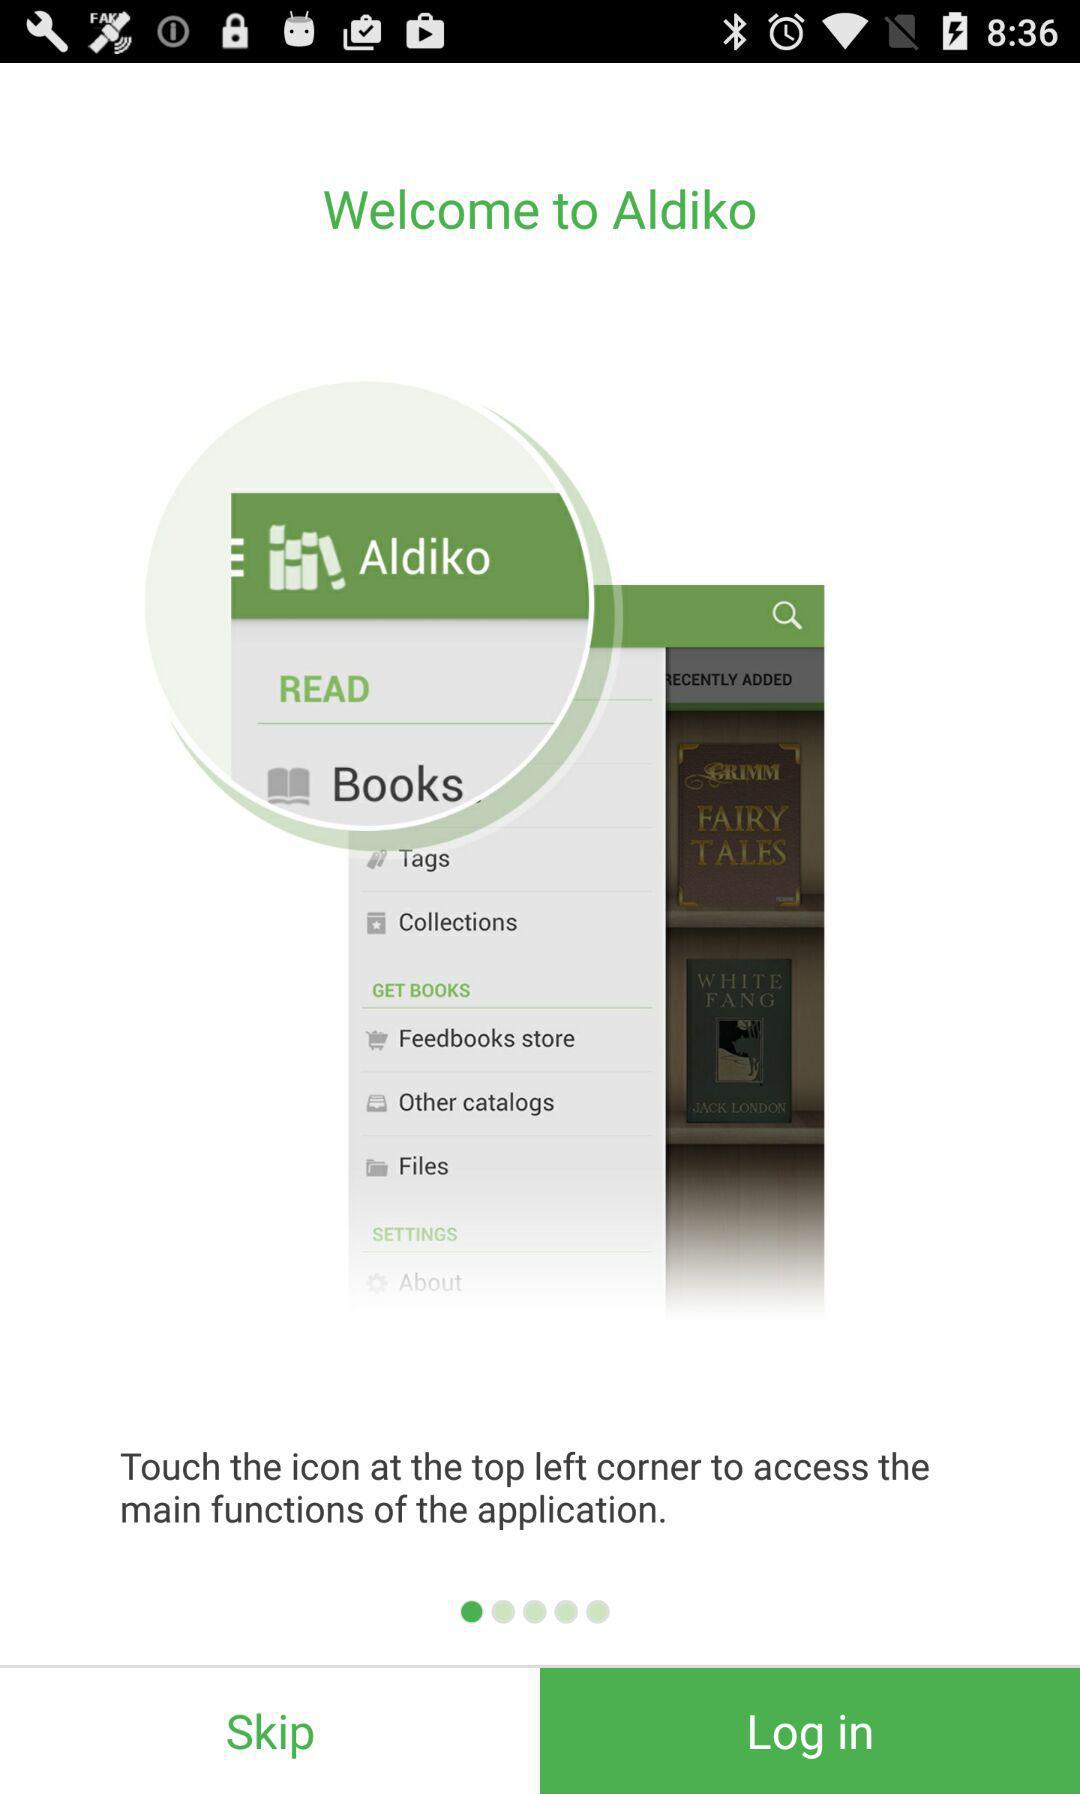Image: (143, 379, 828, 1310)
PageIndicator: (460, 1599, 611, 1625)
Text: (120, 1451, 931, 1533), (322, 187, 758, 233)
TextButton: (1, 1665, 541, 1794), (541, 1665, 1080, 1794)
UpperTaskBar: (1, 1, 1080, 64)
